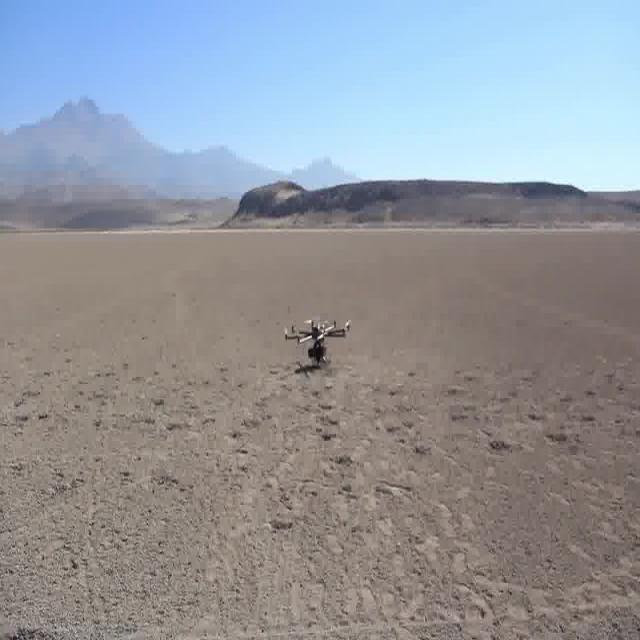Drone_FW: (284, 317, 352, 367)
